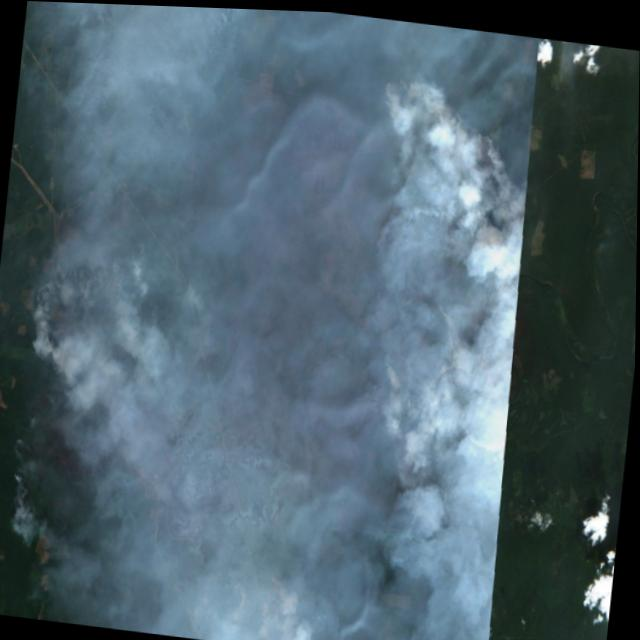fire: (342, 52, 543, 423), (245, 554, 313, 640)
